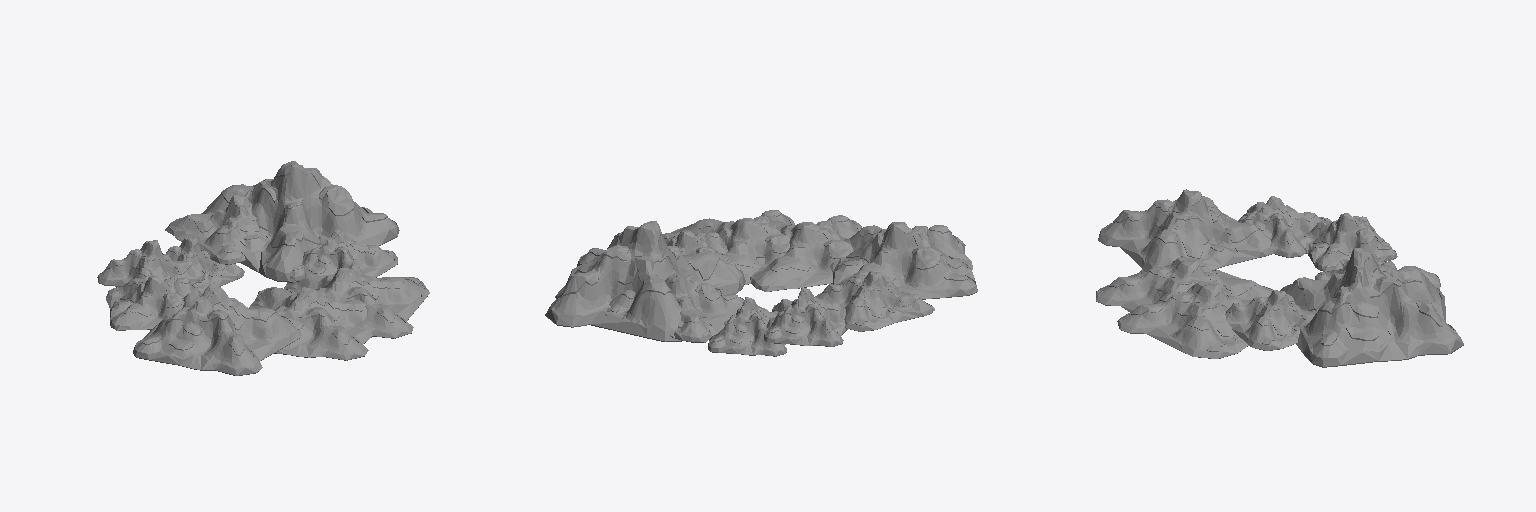
Rendered from SM_Env_MountainGrass.obj.
3 renders of one model, left to right at view 1: azimuth 30°, elevation 25°; view 2: azimuth 150°, elevation 25°; view 3: azimuth 270°, elevation 25°, orthographic.
Parts seen in each view (by area): view 1: SM_Env_MountainGrass; view 2: SM_Env_MountainGrass; view 3: SM_Env_MountainGrass.
Part boxes in pixels (x1,y1,x2,y2): SM_Env_MountainGrass: (97, 161, 429, 375); SM_Env_MountainGrass: (545, 210, 977, 356); SM_Env_MountainGrass: (1096, 189, 1463, 367).
Bounding box in the file's own units: 152 × 38.99 × 147.